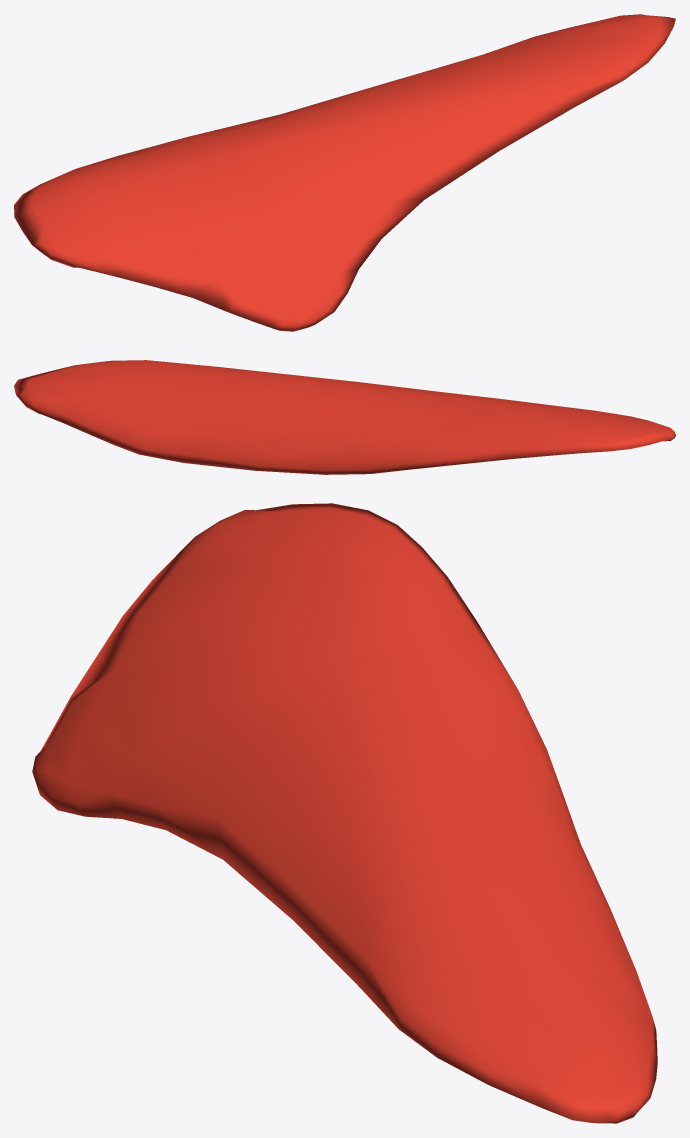
File: Sternocleidomastoid_clavicular_insertion_left.glb
3 renders of one model, top to bottom at view 1: azimuth 30°, elevation 25°; view 2: azimuth 150°, elevation 25°; view 3: azimuth 270°, elevation 25°, orthographic. The views are drawn at different scales.
Visible parts, largest first — view 1: Sternocleidomastoid_muscle-Clavicular_insertion.l_Cone.005; view 2: Sternocleidomastoid_muscle-Clavicular_insertion.l_Cone.005; view 3: Sternocleidomastoid_muscle-Clavicular_insertion.l_Cone.005.
Part boxes in pixels (x1,y1,x2,y2): Sternocleidomastoid_muscle-Clavicular_insertion.l_Cone.005: (14, 14, 675, 331); Sternocleidomastoid_muscle-Clavicular_insertion.l_Cone.005: (14, 360, 675, 474); Sternocleidomastoid_muscle-Clavicular_insertion.l_Cone.005: (32, 503, 657, 1123).
Bounding box in the file's own units: 0.0273 × 0.00353 × 0.0128.
